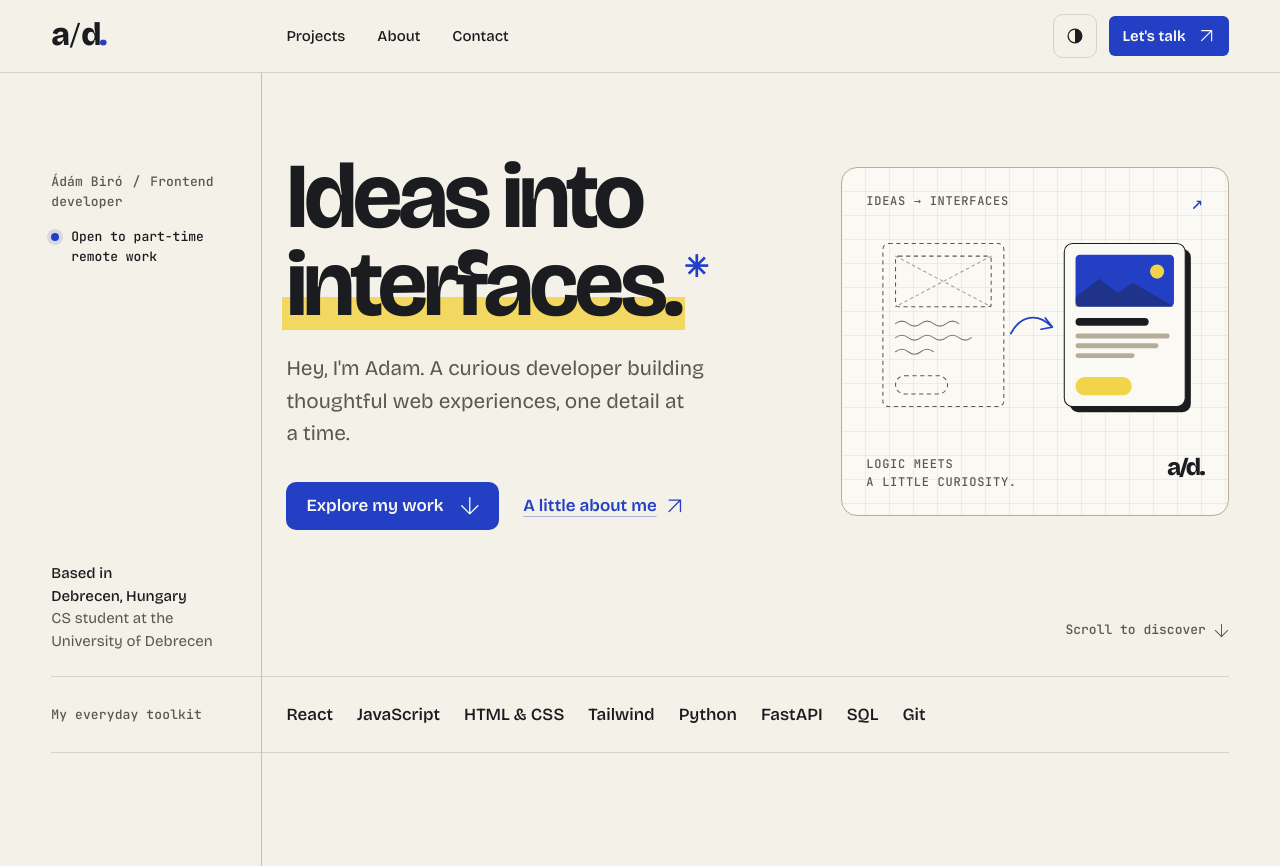
Test: portfolio navigation › numbers the contact section only on the home page
Click the link "About": (399,36) x1=377 y1=14 x2=420 y2=58
(page scrolled)
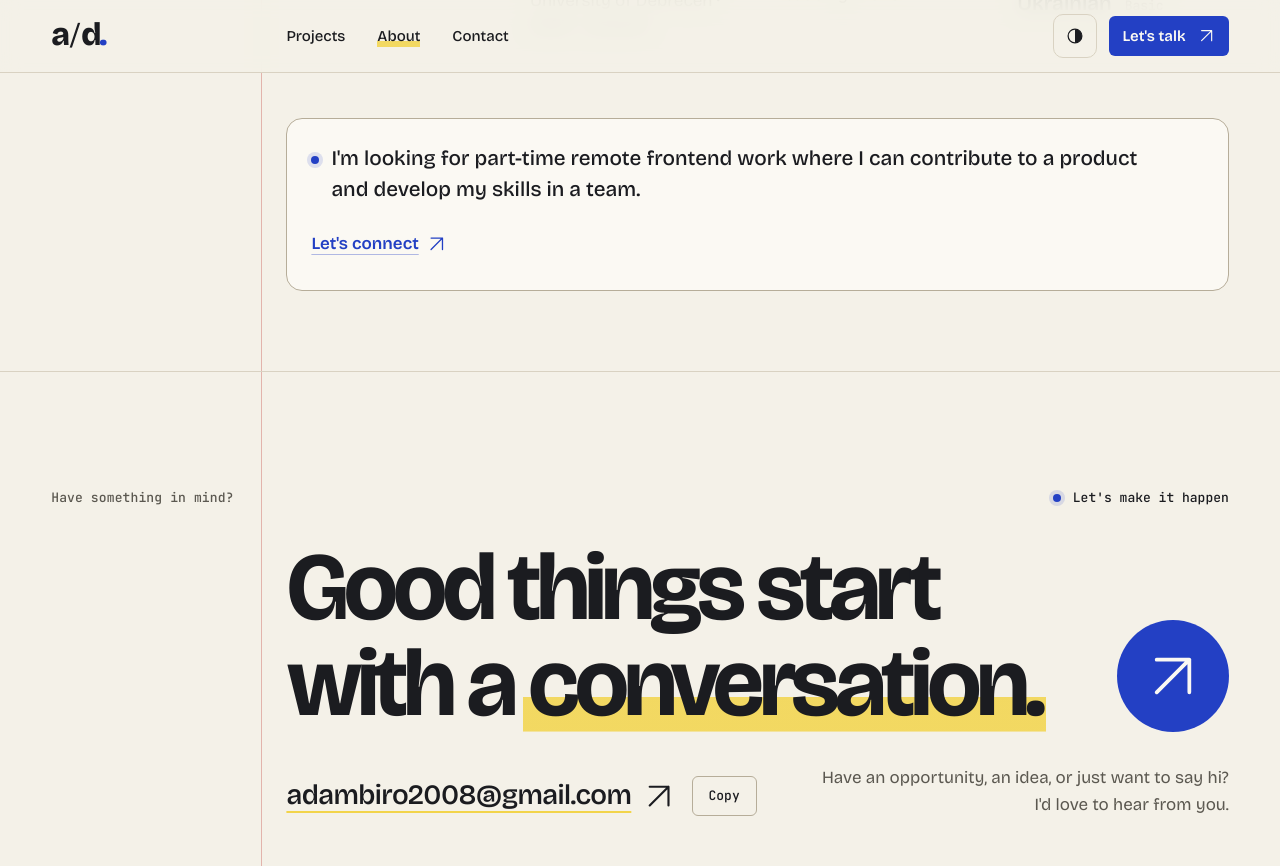
Expected: the text with class "note" reads "Have something in mind?", x1=51 y1=489 x2=234 y2=506
